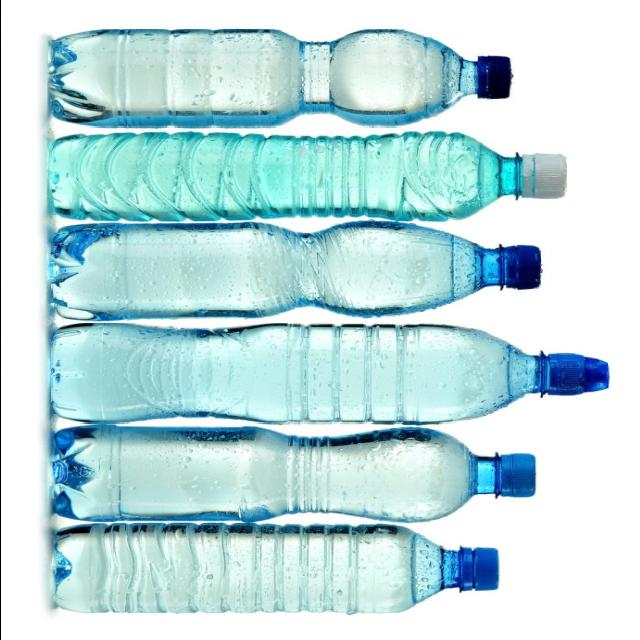bottle: (51, 324, 607, 423), (51, 221, 540, 320), (50, 132, 566, 221), (53, 427, 534, 522), (48, 30, 510, 127), (54, 524, 496, 612)
